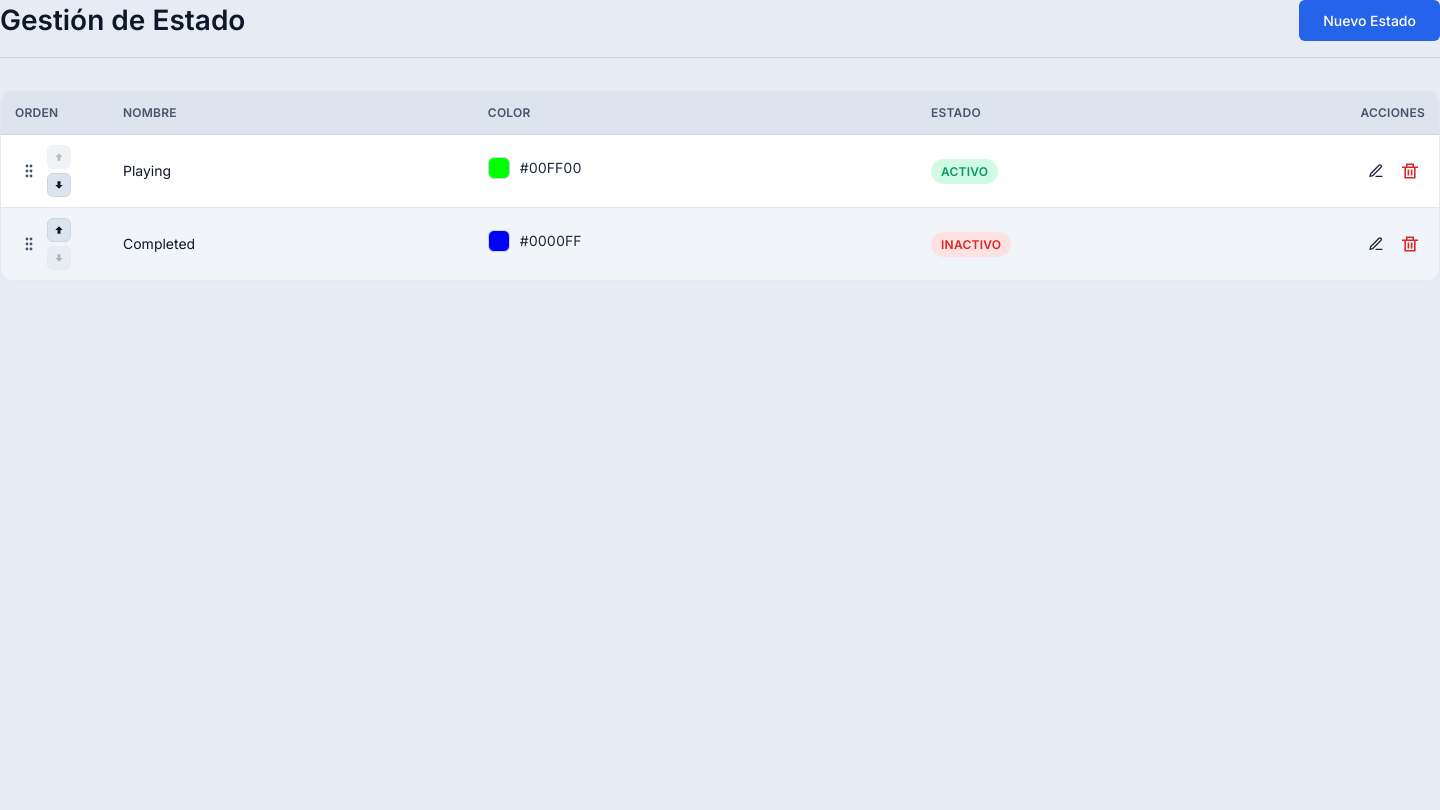
Test case: AdminStatus › opens edit modal with prefilled data
Click the button named "Editar" in the row of "Playing" at (1376, 171), box [1361,156,1391,186]
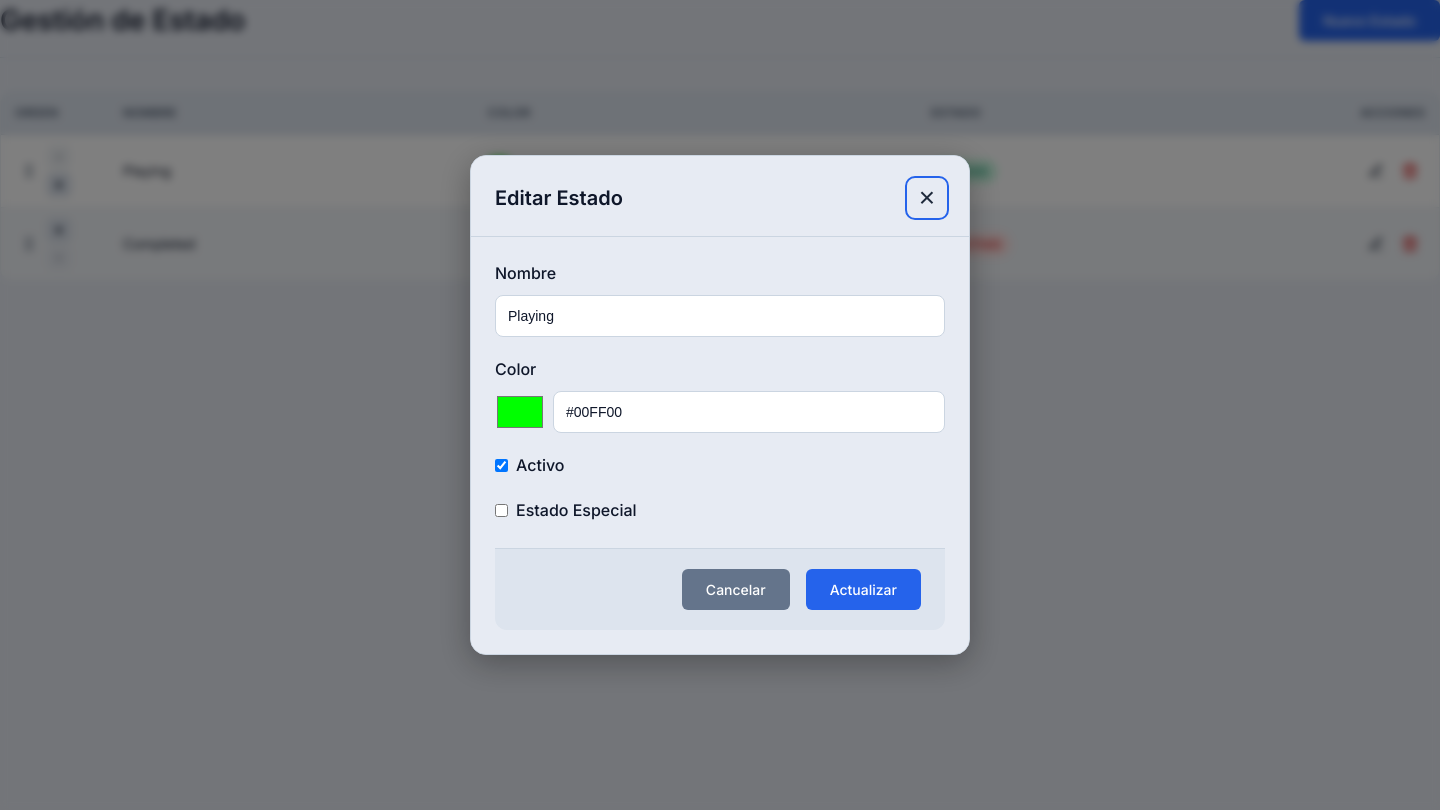
Expected: the heading "Editar Estado" is shown, [495,186,623,210]
Expected: the field showing "Playing" is shown, [495,295,945,337]
